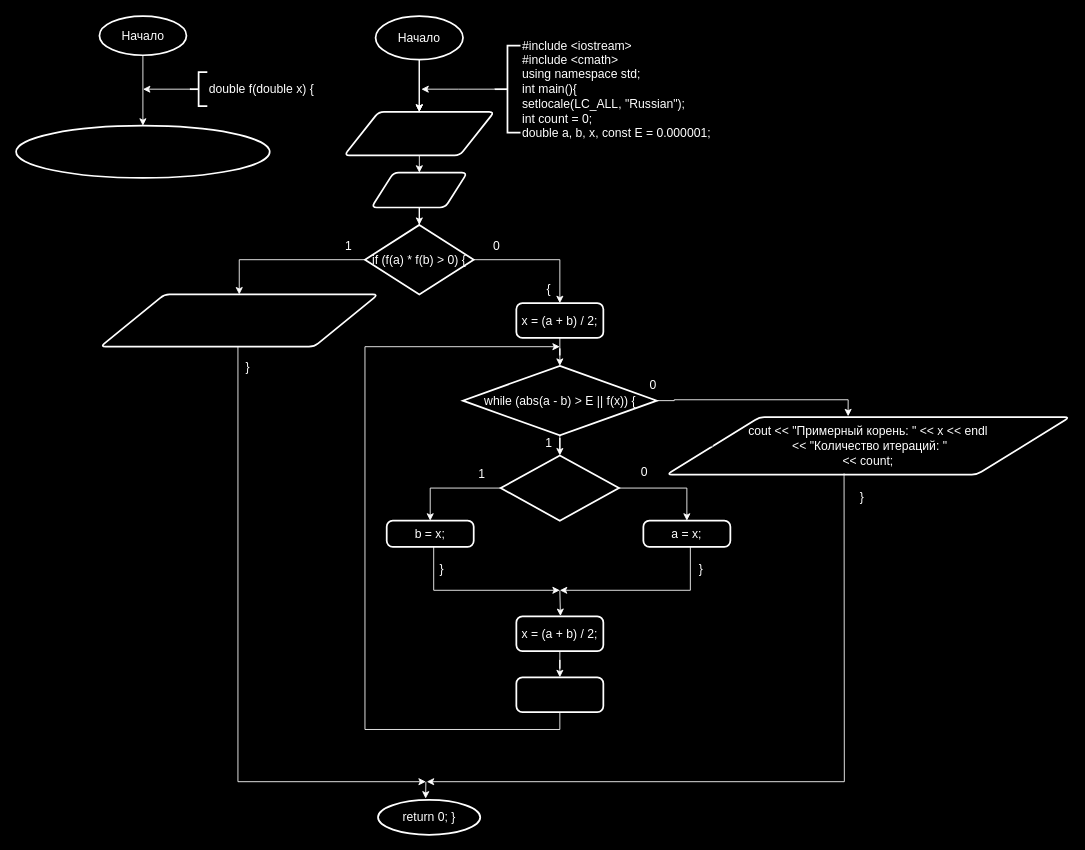
Image size: 1085x850. Some labels were removed from this diagram. Each missing label, with the centre of its shape:
cin >> a >> b;: pixel 419 189
count++;: pixel 559 694
cout << "Введите интервал [a; b]: ";: pixel 419 133
cout << "на интервале нет корня";}: pixel 238 320
if (f(a) * f(x) < 0) {: pixel 559 487
return sqrt(1 - 0.4 * pow(x, 2)) - asin(x);}: pixel 142 151
